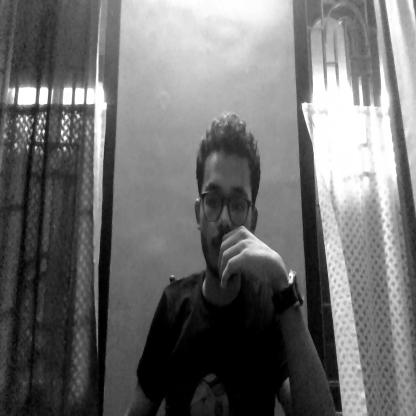Normal: (184, 97, 261, 306)
